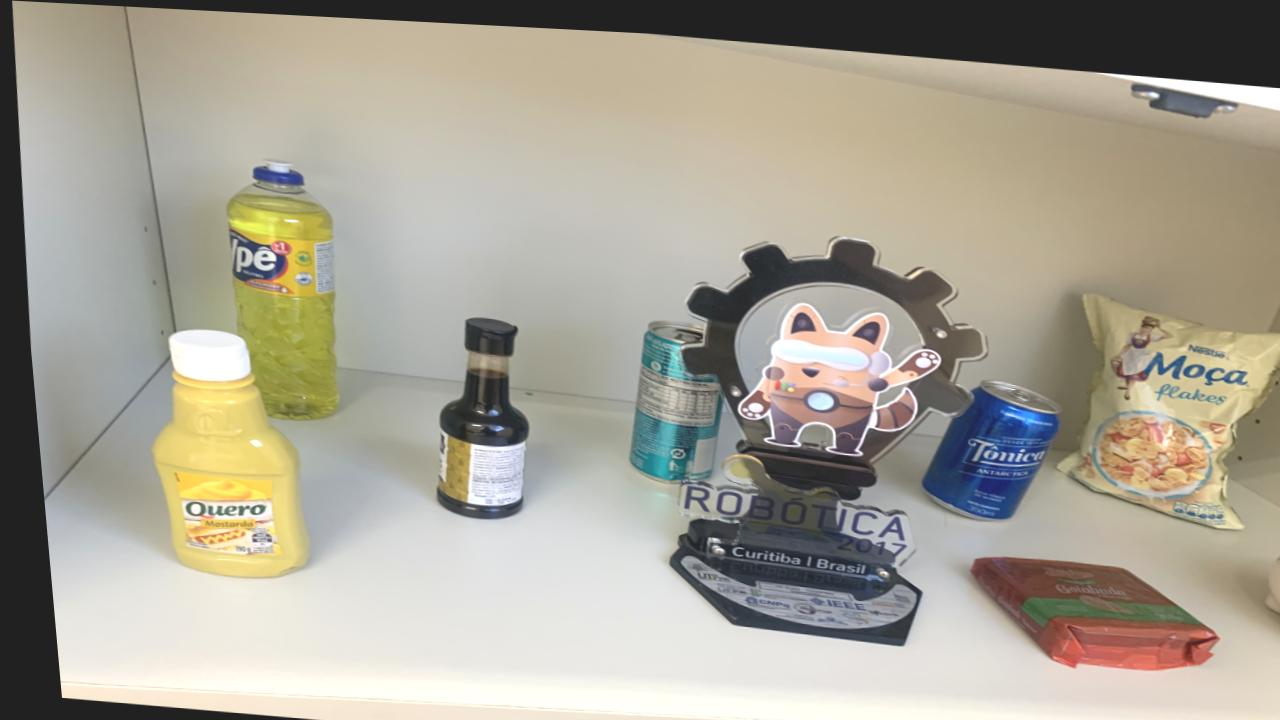Detergent-Cleanup_Items: (224, 158, 331, 417)
English_Sauce-Pantry_Items: (429, 313, 522, 514)
Flakes-Snacks: (1050, 283, 1280, 516)
Guava-Snacks: (961, 546, 1208, 659)
Mustard-Pantry_Items: (145, 328, 299, 576)
Pig_Safe-Miscellaneous: (1254, 536, 1280, 603)
Tea-Drinks: (622, 314, 716, 476)
Tonic-Drinks: (915, 371, 1053, 511)
Trophy-Miscellaneous: (661, 229, 981, 636)
